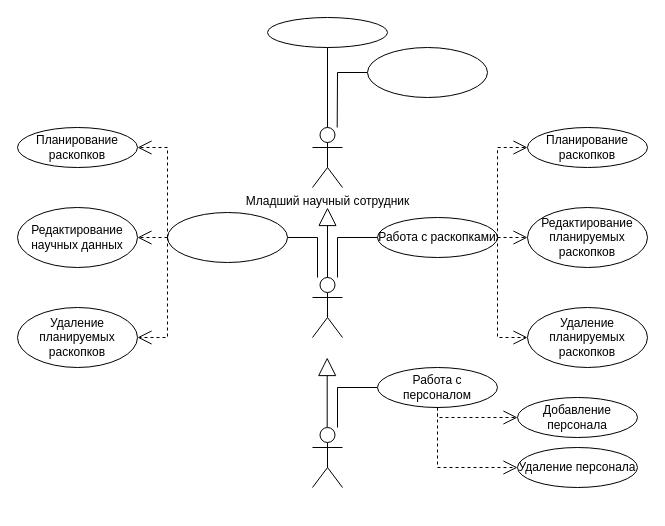
Some shapes in this 665 by 526 pixel diagram are drawn without their labels. Here are the shapes that lost their labels. From the top down, the box of each, then its label:
(266, 16, 388, 48): Запуск приложения
(366, 46, 488, 98): Просмотр планируемых раскопков
(166, 212, 288, 262): Работа с научными данными
(312, 276, 342, 338): Археолог
(312, 426, 342, 488): Администратор
